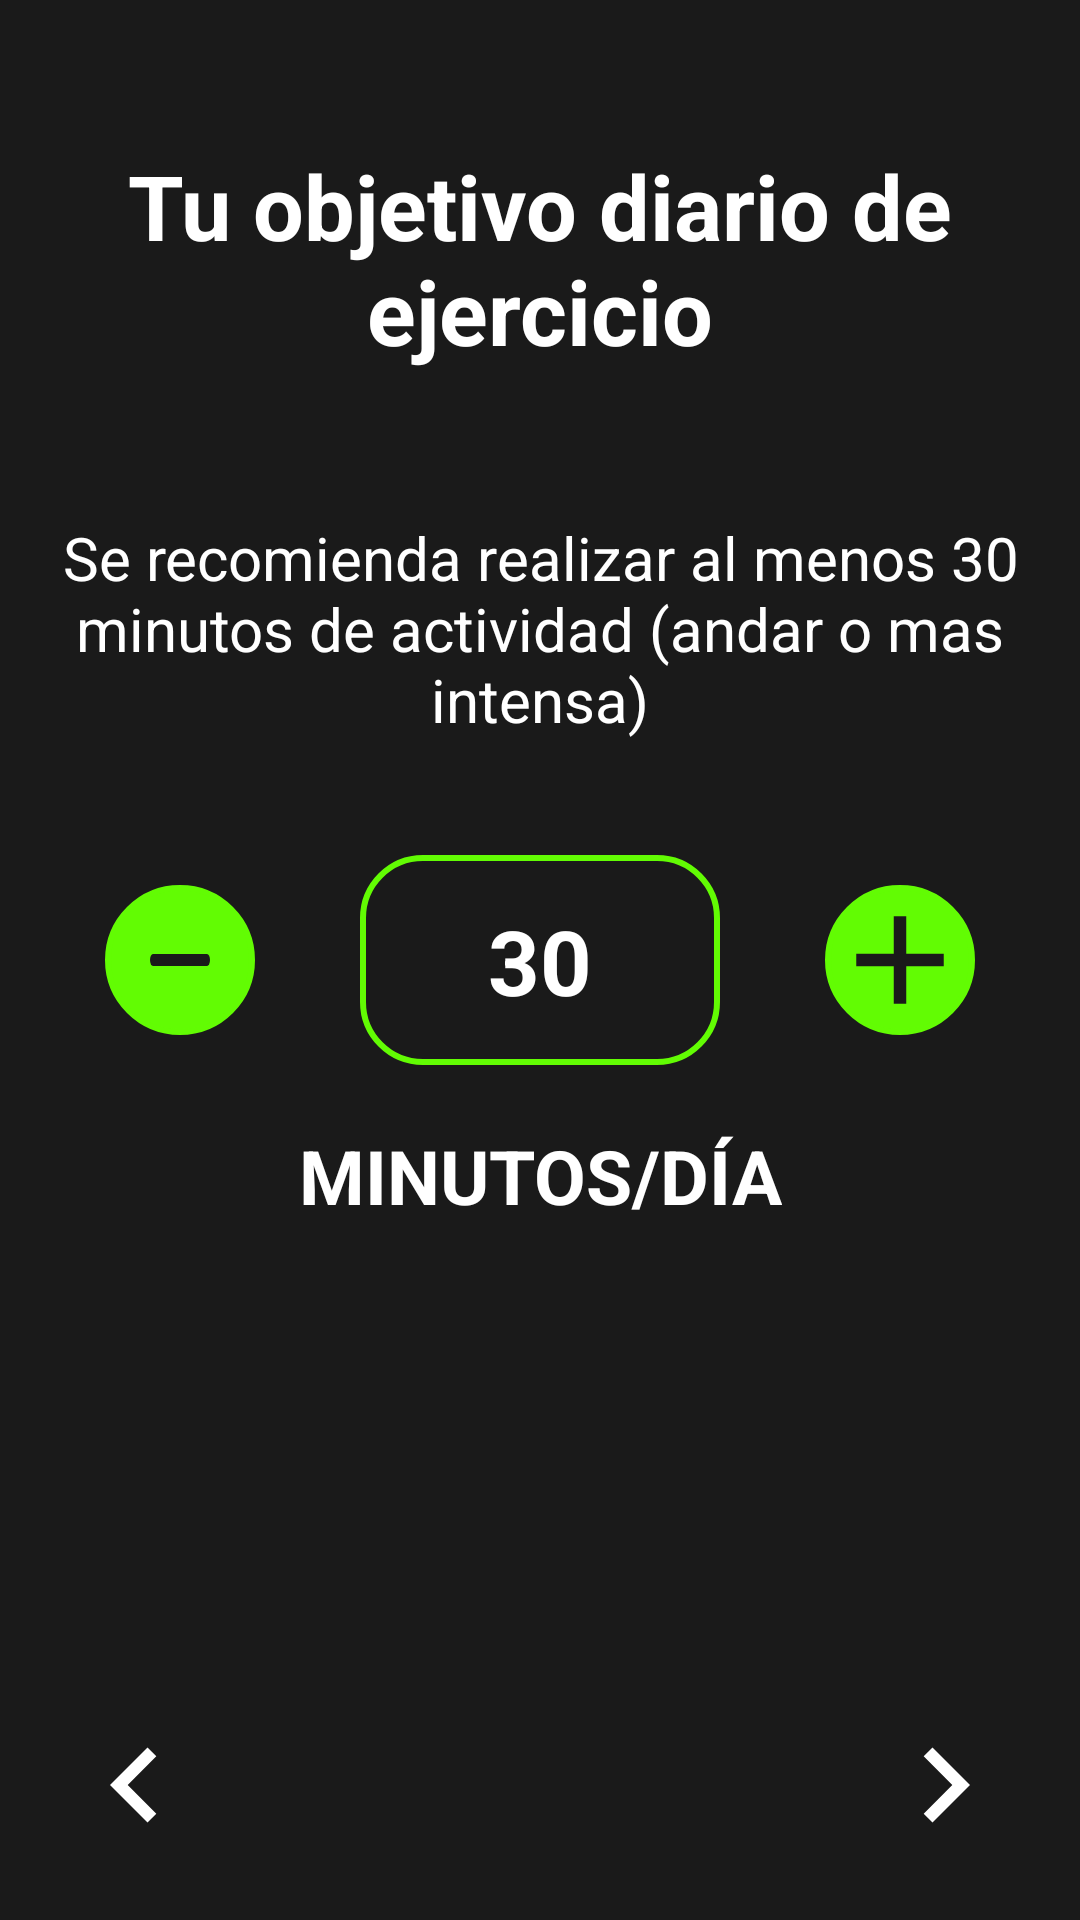

Locate icon controls on the screen. Image size 1080px x 1920px, boxes as bbox=[x1, y1, x2, y2].
add: bbox=[825, 885, 975, 1035]
keyboard arrow left: bbox=[110, 1747, 156, 1823]
keyboard arrow right: bbox=[924, 1747, 970, 1823]
